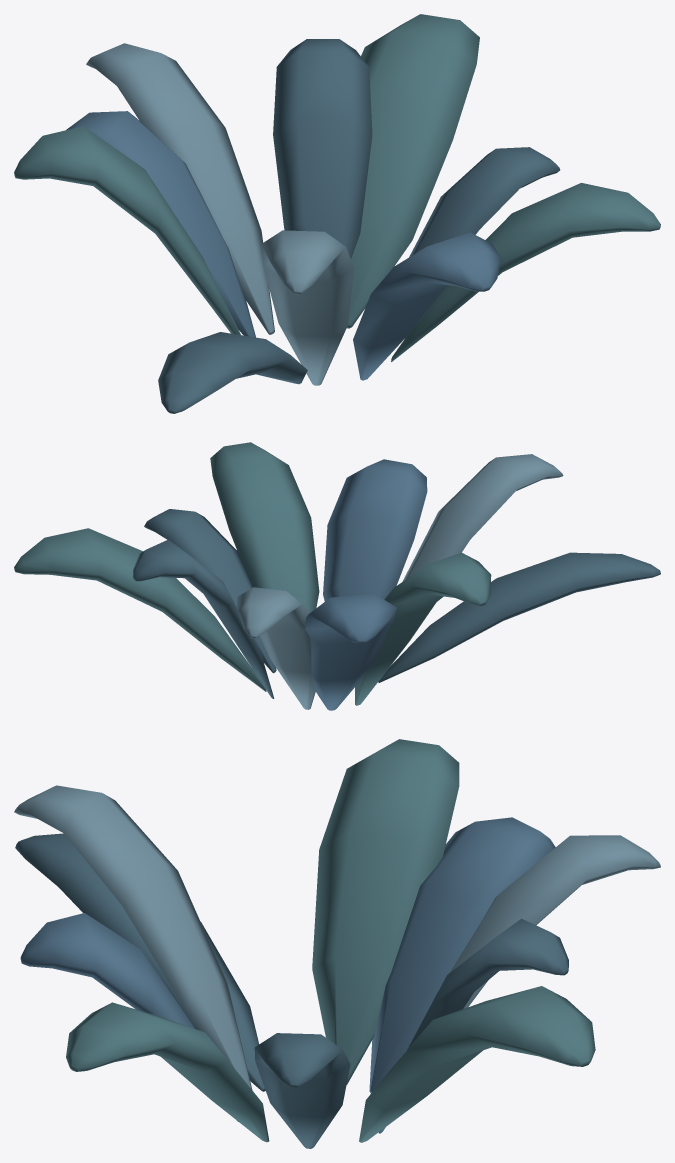
The model's file is low_clump_02.glb.
The picture shows the model from 3 angles, top to bottom: view 1: azimuth 30°, elevation 25°; view 2: azimuth 150°, elevation 25°; view 3: azimuth 270°, elevation 25°; orthographic projection. The views are drawn at different scales.
Visible parts, largest first — view 1: low_clump_02; view 2: low_clump_02; view 3: low_clump_02.
Boxes of the visible parts, x1,y1,x2,y2 form: low_clump_02: [14, 14, 660, 413]; low_clump_02: [14, 442, 660, 710]; low_clump_02: [14, 739, 660, 1148].
Size of the model in its own units: 0.8038 by 0.3302 by 0.753.
